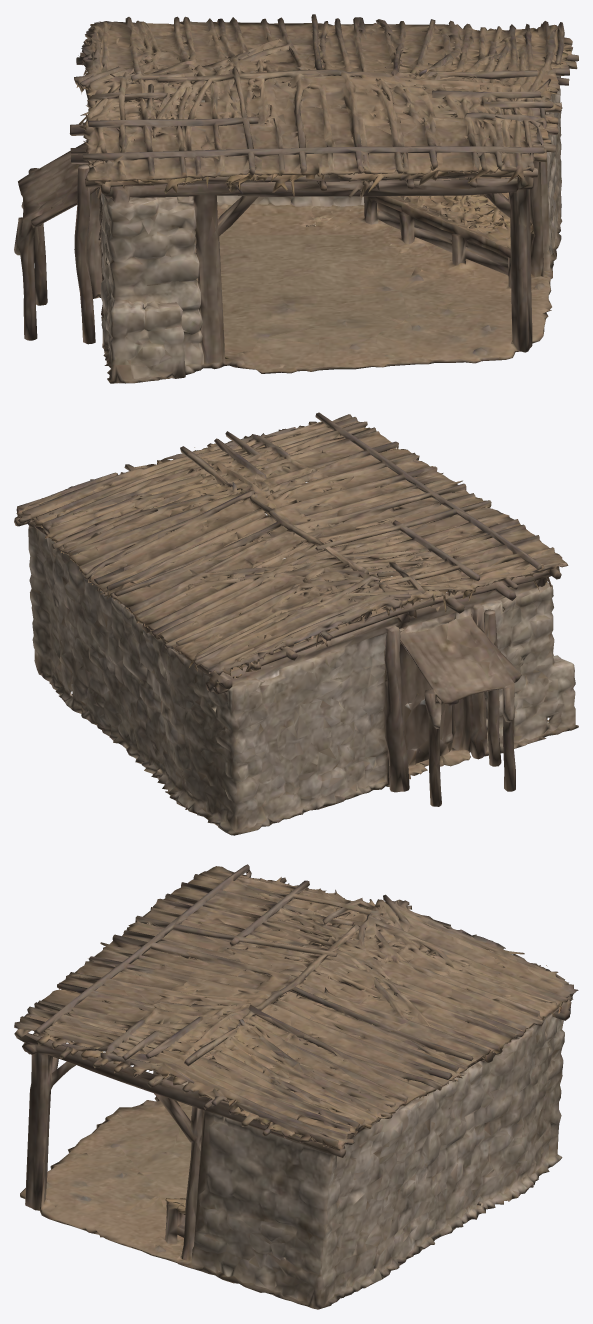
File: nativity-stone-stall.glb
The picture shows the model from 3 angles, top to bottom: view 1: azimuth 30°, elevation 25°; view 2: azimuth 150°, elevation 25°; view 3: azimuth 270°, elevation 25°; orthographic projection. The views are drawn at different scales.
Visible parts, largest first — view 1: geometry_0; view 2: geometry_0; view 3: geometry_0.
Boxes of the visible parts, x1,y1,x2,y2 form: geometry_0: (14,14,578,383); geometry_0: (14,412,578,835); geometry_0: (14,864,578,1309).
Bounding box in the file's own units: 7.83 × 3.1 × 7.28.
1 material, 1 textured.
